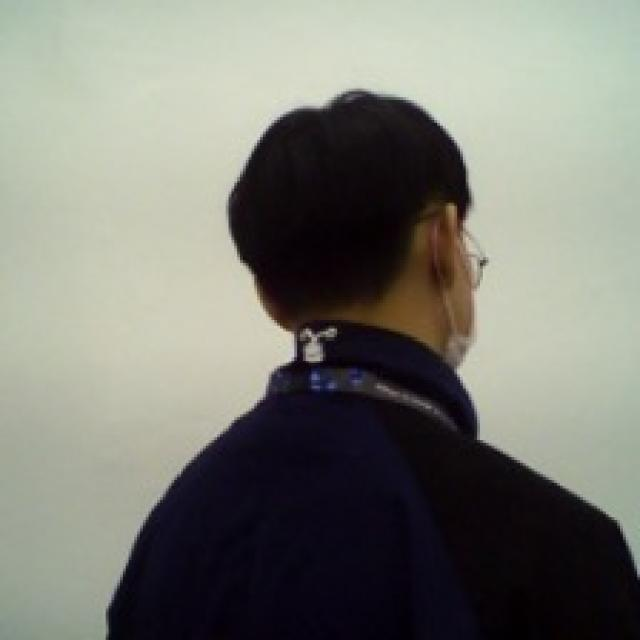no_gloves: (224, 84, 474, 330)
